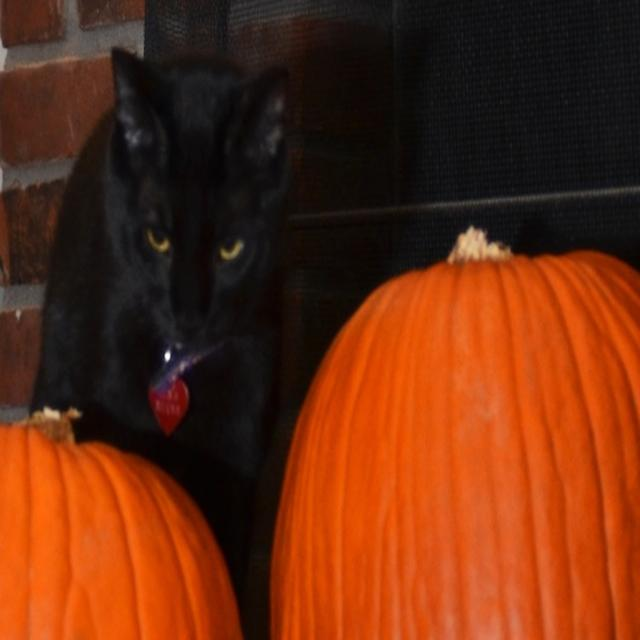Cat: (32, 39, 300, 609)
